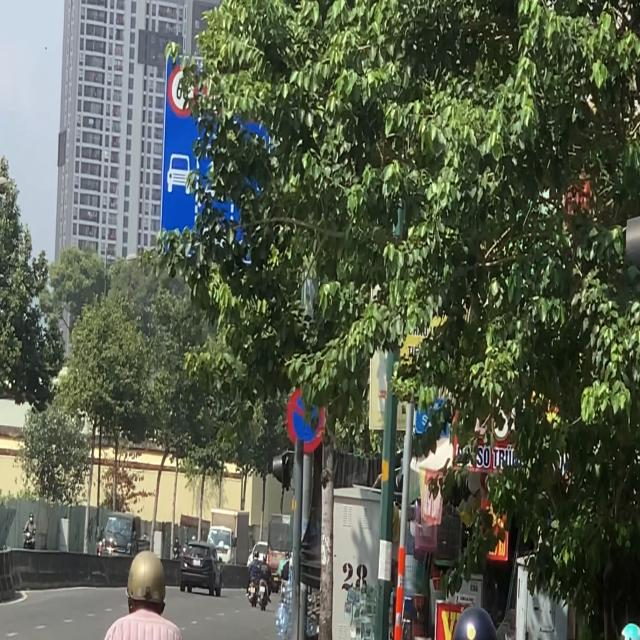Cam do: (287, 381, 325, 453)
Toc do toi da: (167, 64, 198, 119)
